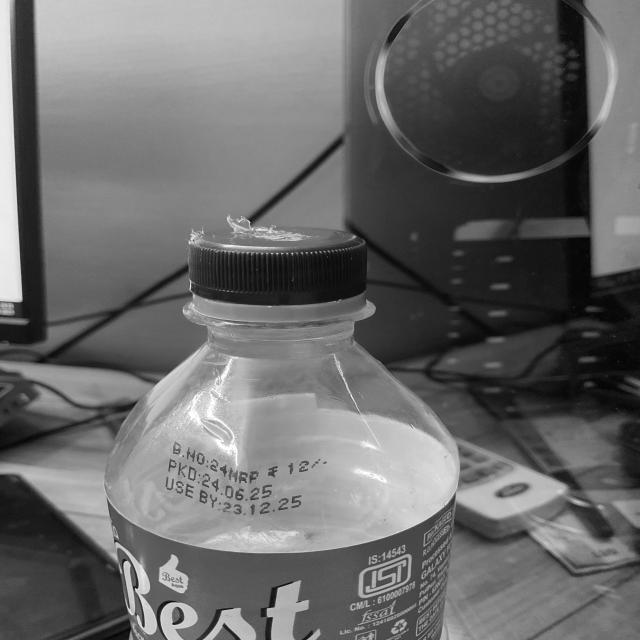Good-cap-Df0S: (183, 226, 374, 323)
